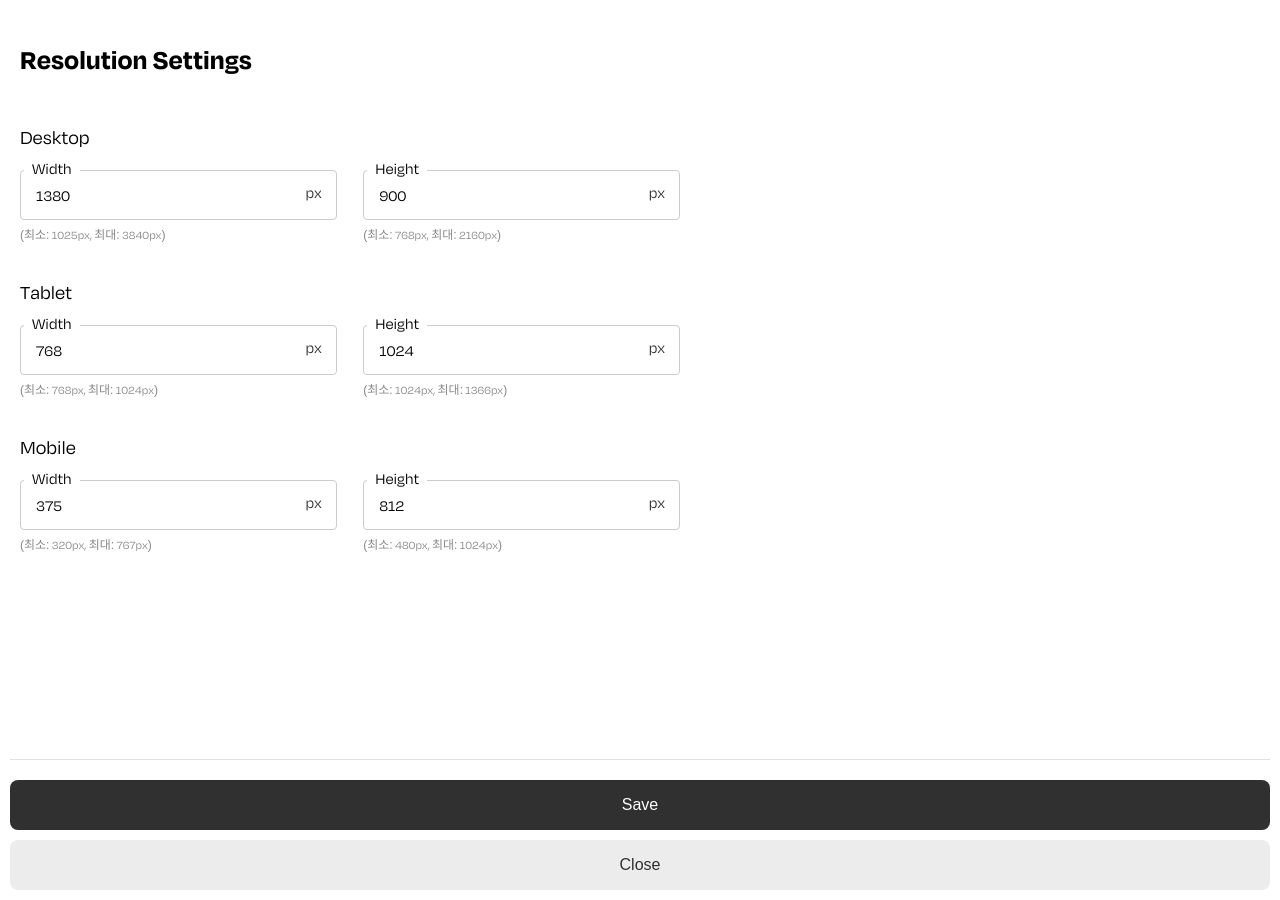
Test case: Modal 컴포넌트 › 유효하지 않은 해상도 값을 입력하면 에러 메시지를 표시한다
The image size is (1280, 900).
Replace the text in the field labelled "Width" below "Desktop" with "100": (178, 195) [20,170,337,220]
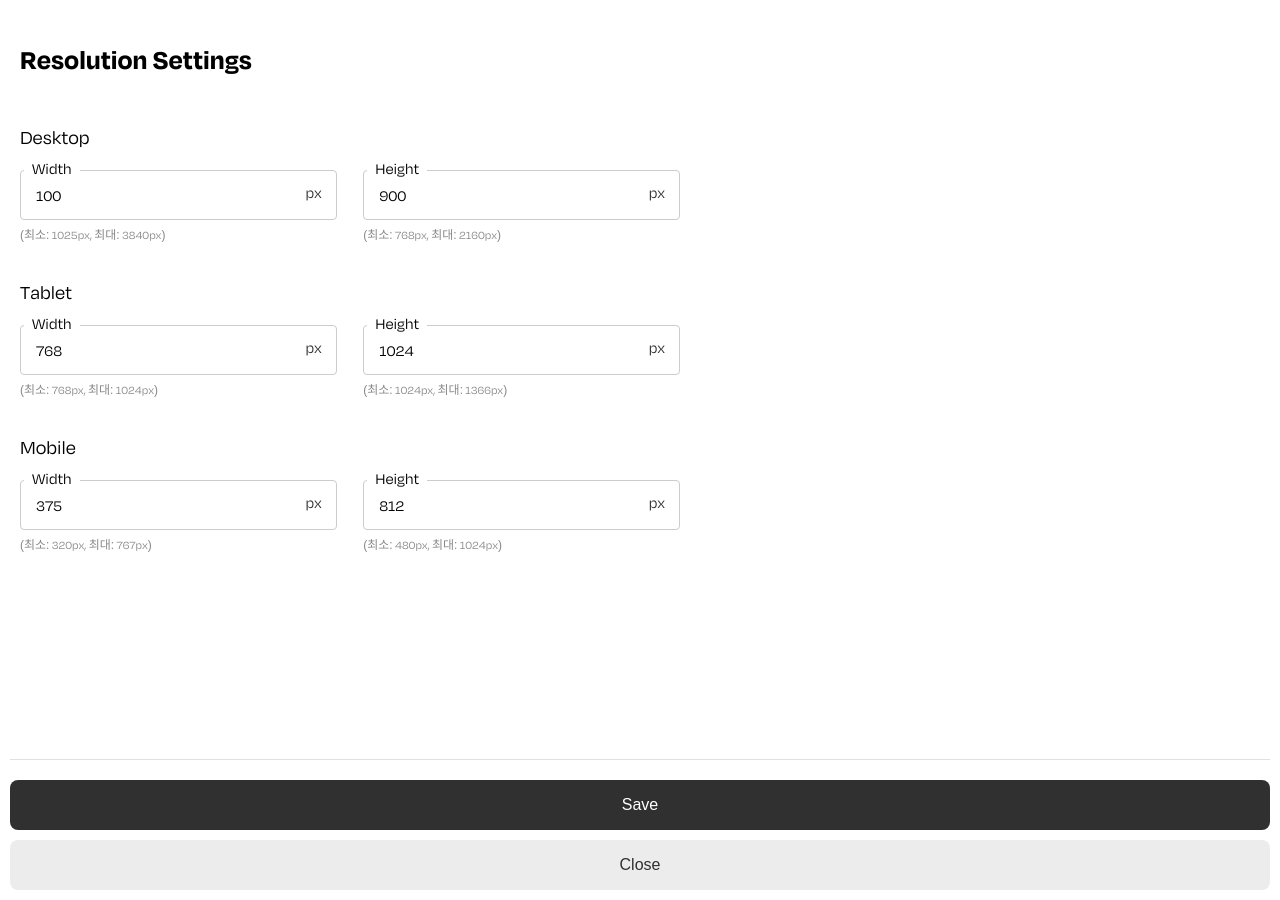
Click the button "Save": (640, 805) [10,780,1270,830]
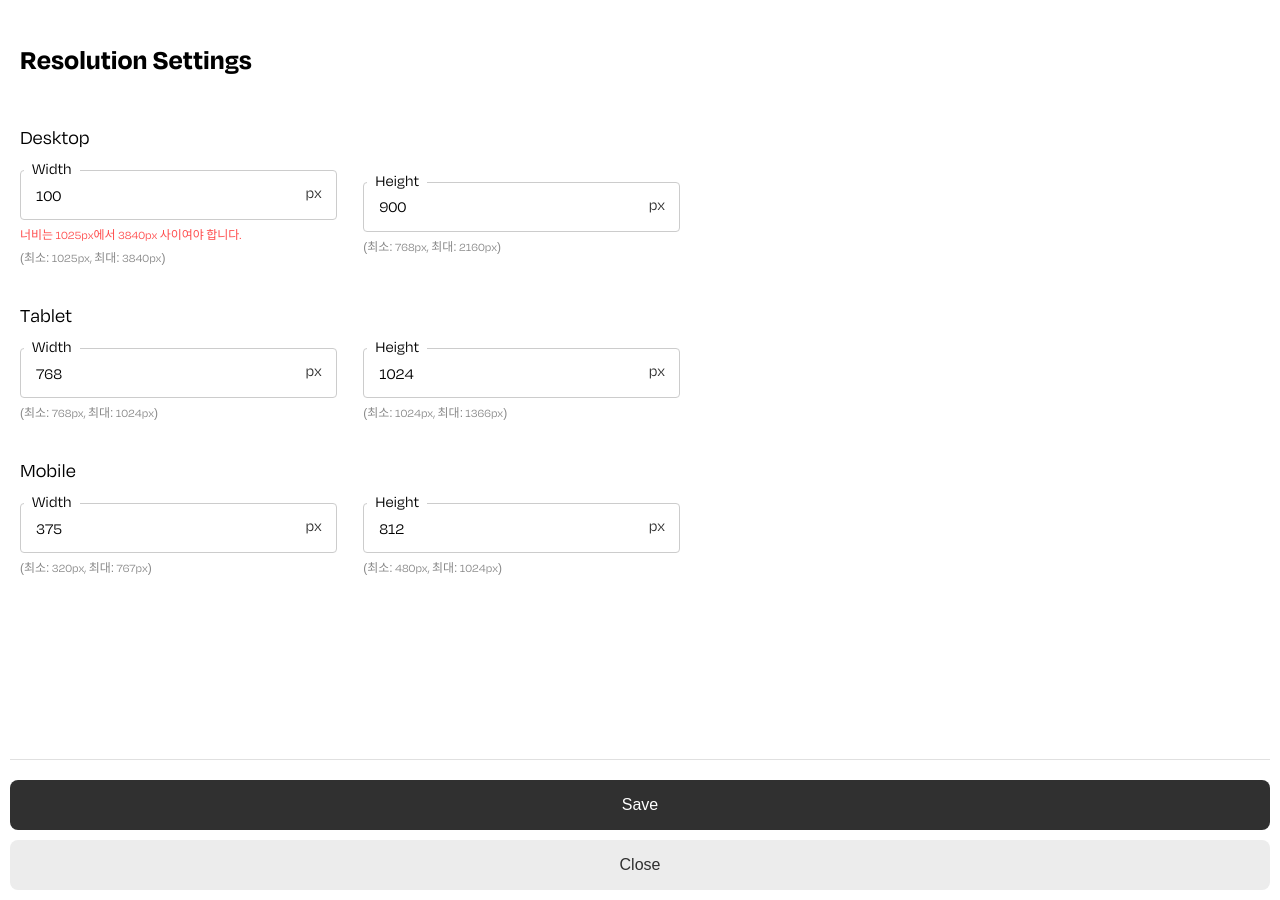
Check: the text "너비는 1025px에서 3840px 사이여야 합니다." is shown, box [20,227,242,243]
